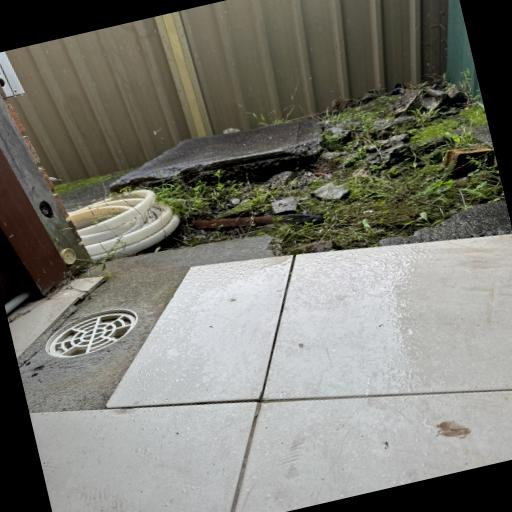gap: (78, 162, 512, 330), (33, 350, 137, 410)
